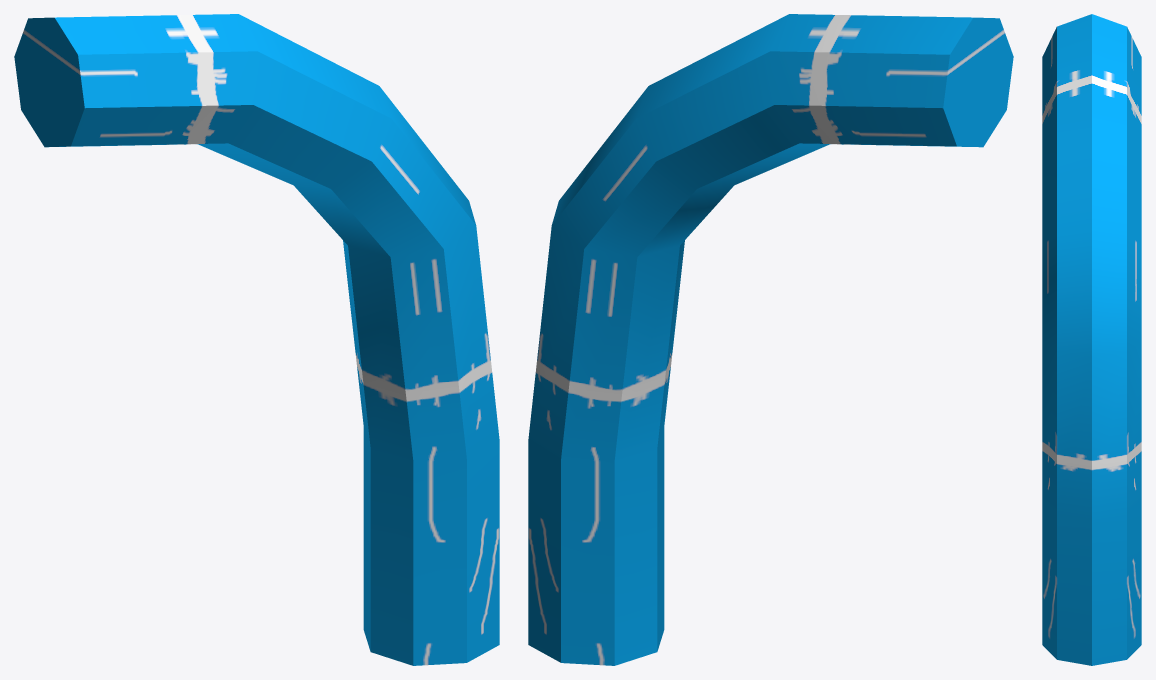
File: CurveWater.fbx
3 views of the same model, side by side, from view 1: azimuth 30°, elevation 25°; view 2: azimuth 150°, elevation 25°; view 3: azimuth 270°, elevation 25° (orthographic). The views are drawn at different scales.
Parts seen in each view (by area): view 1: pasted__pCylinder3; view 2: pasted__pCylinder3; view 3: pasted__pCylinder3.
Part boxes in pixels (left/top/right/bottom): pasted__pCylinder3: left=14, top=14, right=499, bottom=665; pasted__pCylinder3: left=528, top=14, right=1013, bottom=665; pasted__pCylinder3: left=1042, top=14, right=1141, bottom=665.
Size of the model in its own units: 2.35 by 3.57 by 0.6412.
